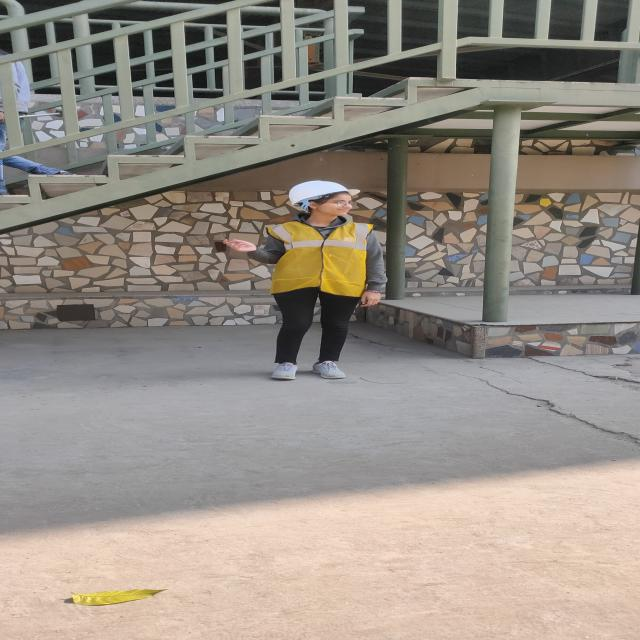safe: (265, 180, 386, 379)
